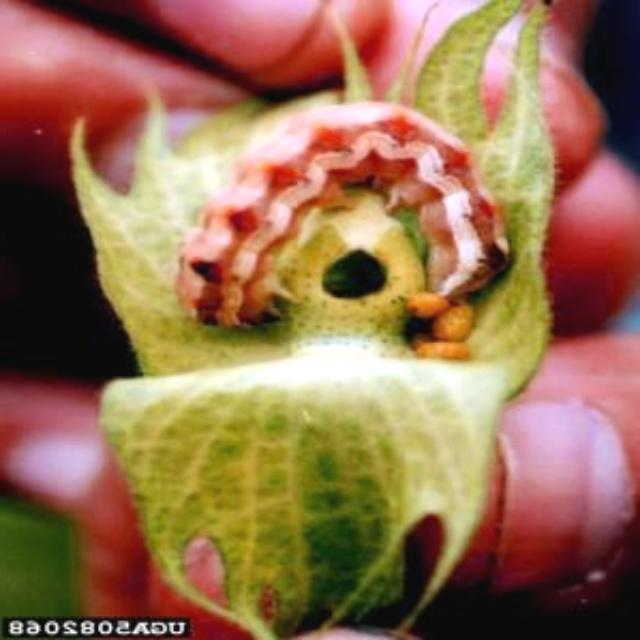Cotton bollworm: (158, 78, 542, 364)
